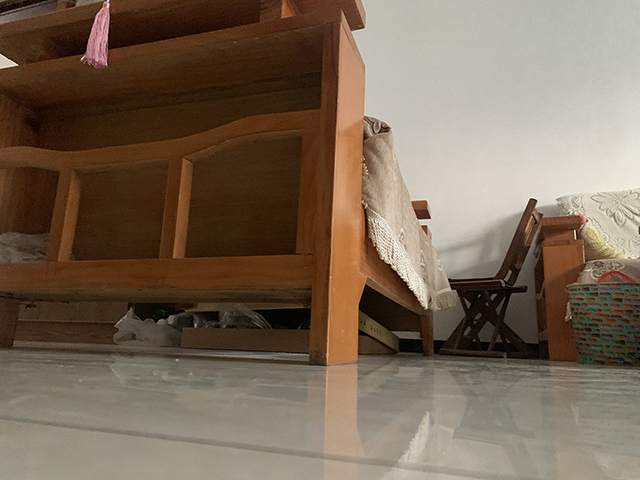sofa: (1, 1, 457, 367), (533, 187, 640, 363)
stool: (437, 197, 544, 358)
trashcan: (564, 281, 640, 367)
